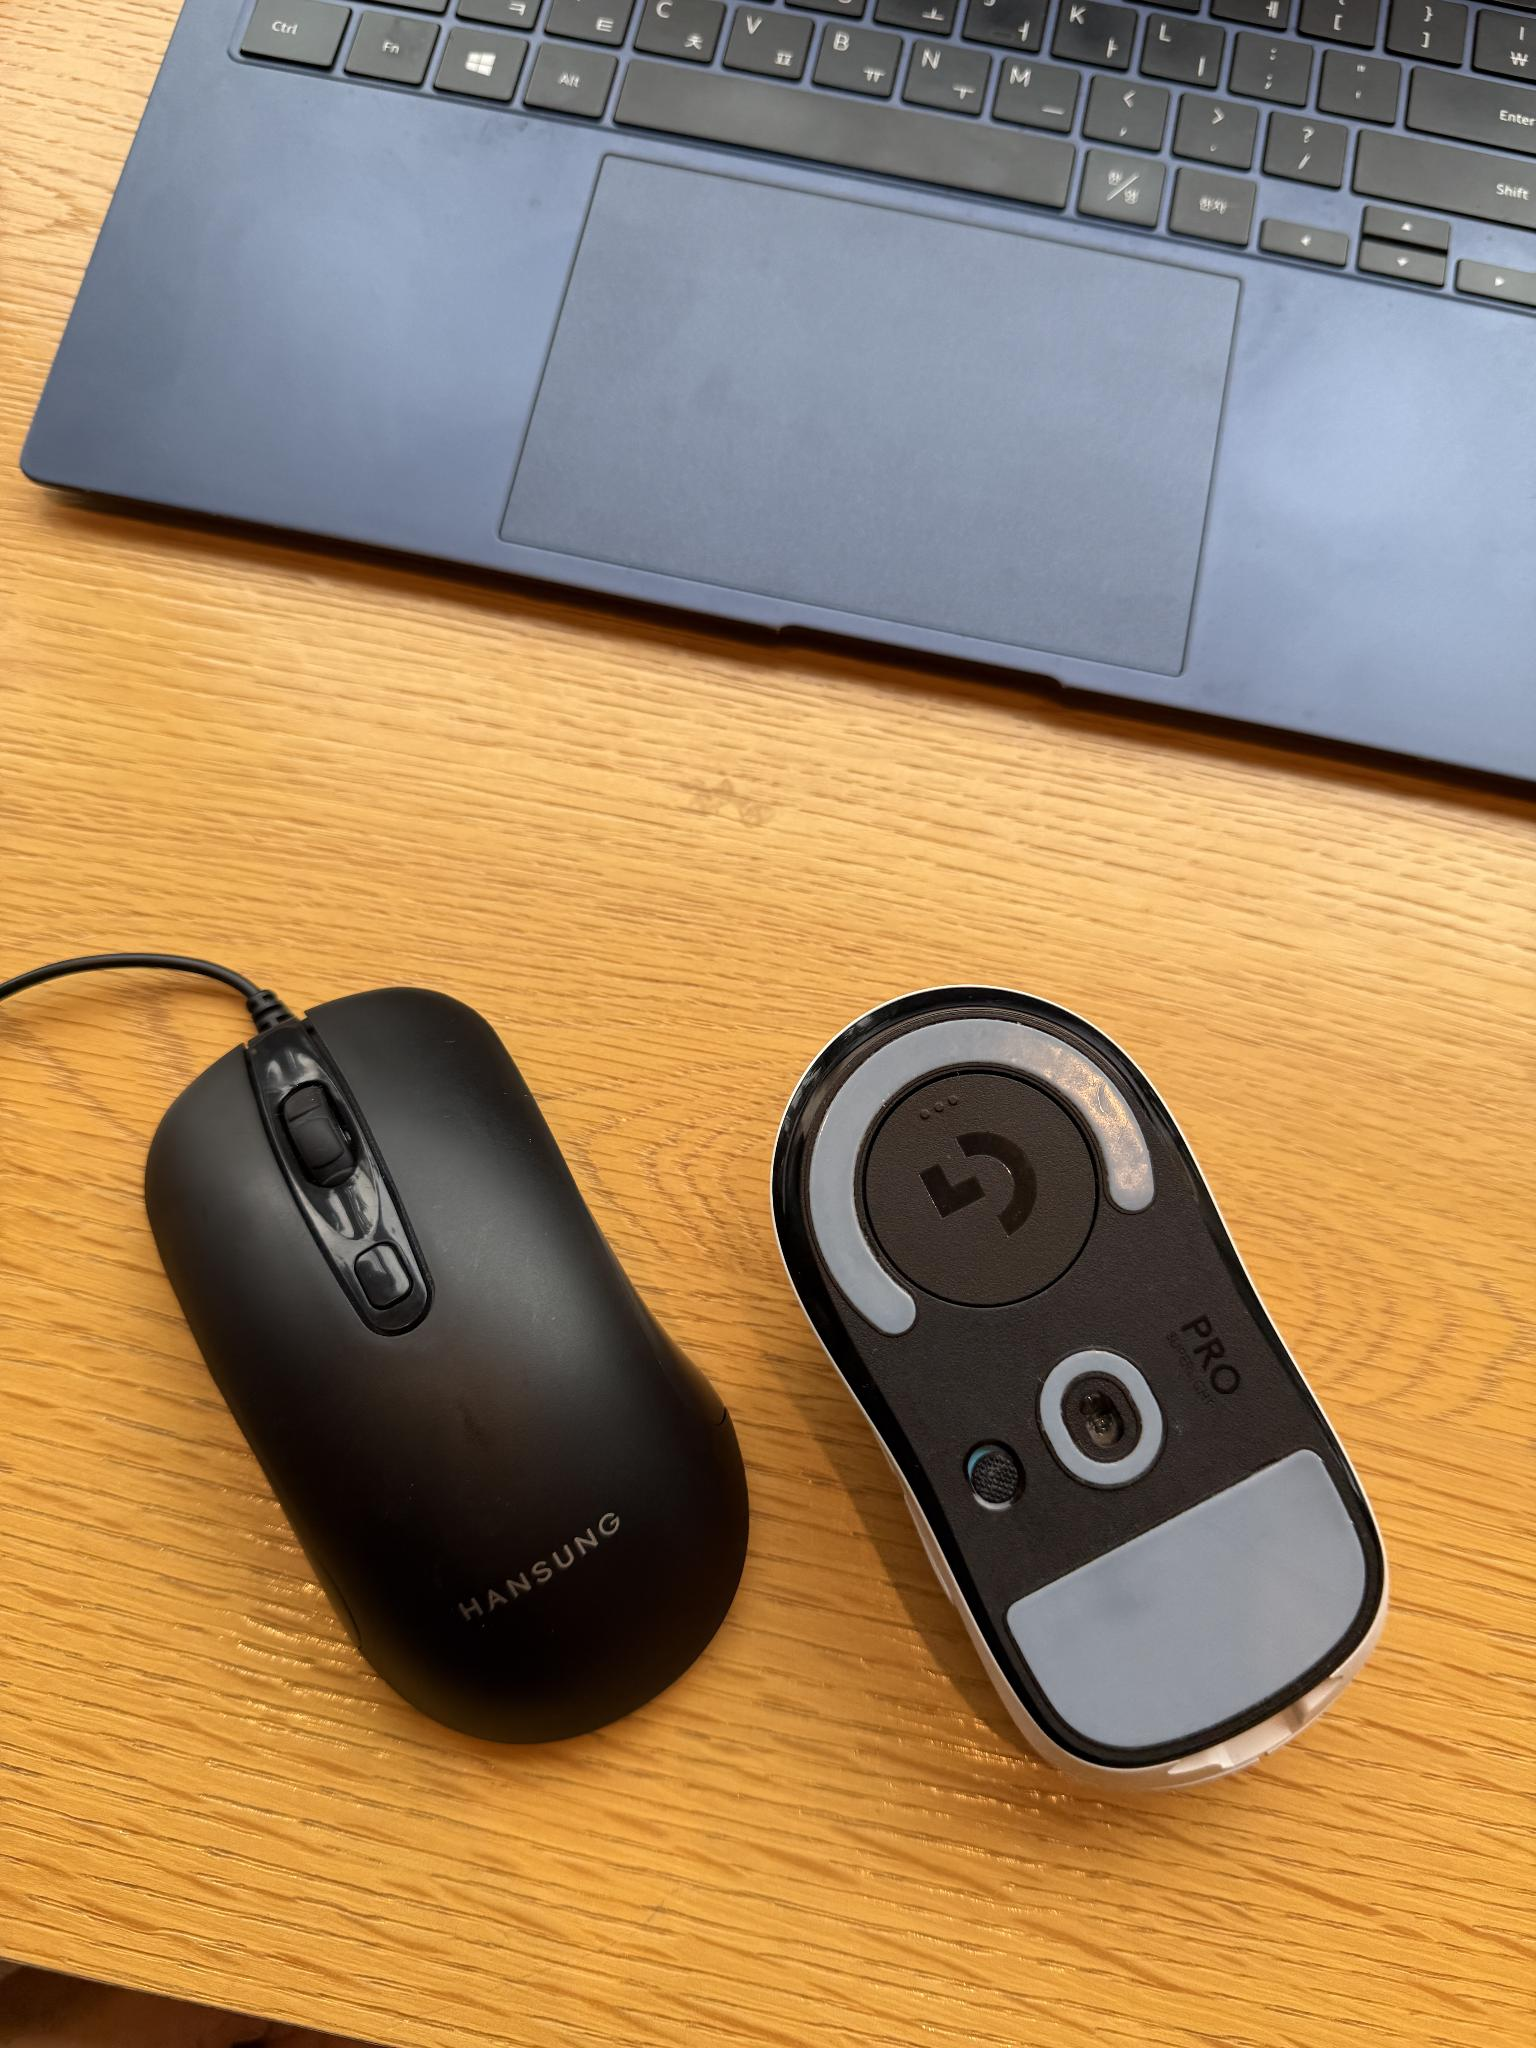back: (753, 979, 1405, 1796)
front: (136, 982, 757, 1746)
